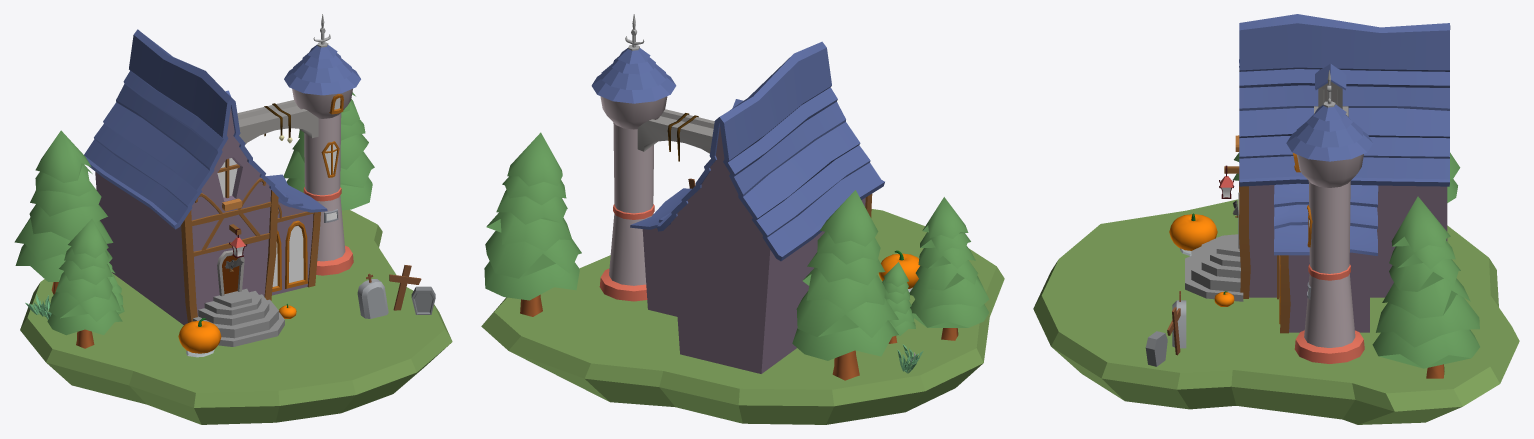
File: house_2.fbx
3 views of the same model, side by side, from view 1: azimuth 30°, elevation 25°; view 2: azimuth 150°, elevation 25°; view 3: azimuth 270°, elevation 25° (orthographic). The views are drawn at different scales.
Visible parts, largest first — view 1: house_2; view 2: house_2; view 3: house_2.
Boxes of the visible parts, bbox=[...] form: house_2: bbox=[14, 14, 452, 424]; house_2: bbox=[481, 14, 1004, 424]; house_2: bbox=[1033, 14, 1519, 424].
Size of the model in its own units: 2083 by 1482 by 2008.
